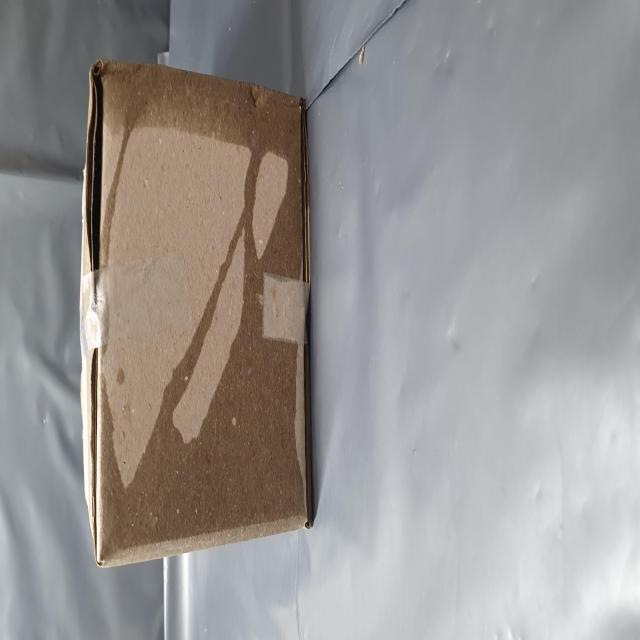wet: (43, 151, 327, 578)
